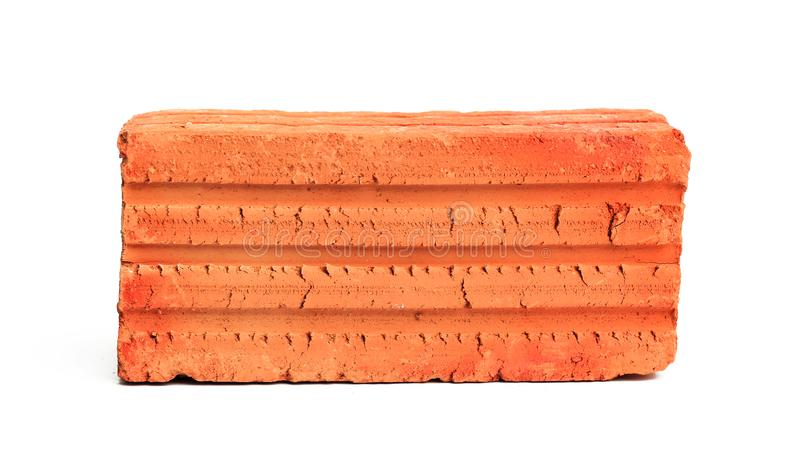brick: (123, 120, 676, 375)
